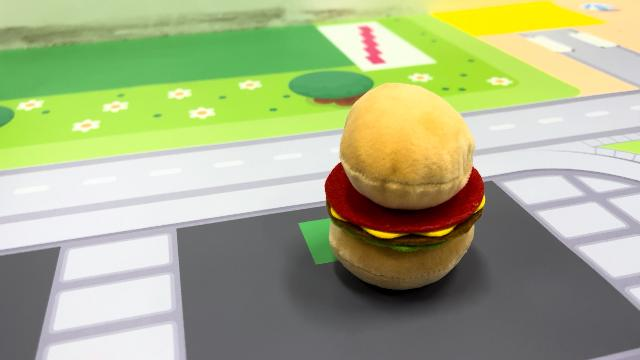burger: (320, 80, 490, 292)
